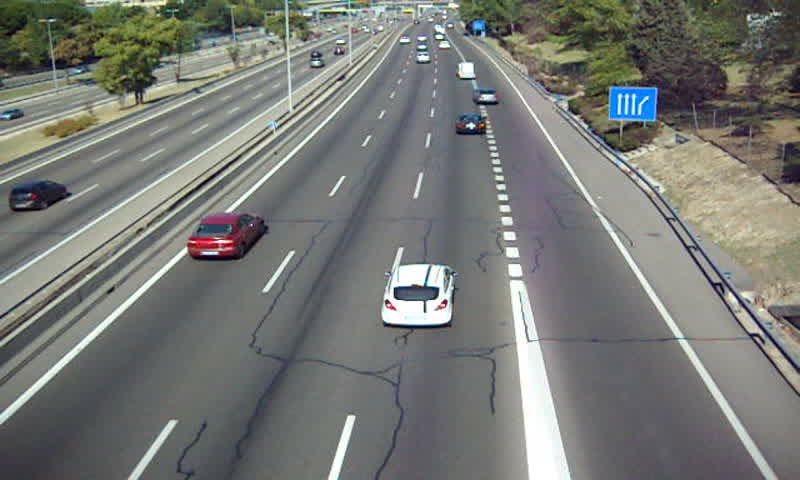car: (381, 264, 454, 326), (186, 214, 264, 259), (455, 112, 486, 136), (475, 88, 499, 105)
van: (458, 61, 476, 78)
